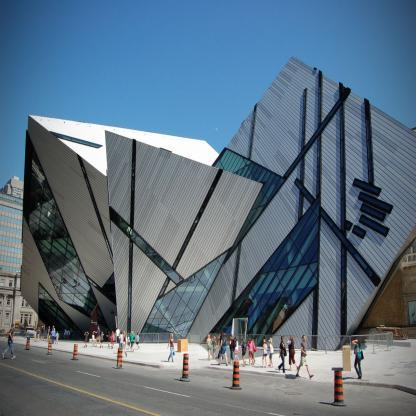Building Outline: (20, 55, 416, 351)
Door: (237, 320, 247, 346)
Facade: (20, 55, 416, 352)
Glass Wall: (202, 196, 319, 347), (23, 133, 109, 329), (136, 247, 232, 342), (39, 284, 88, 339)
Window: (212, 148, 286, 256), (110, 208, 183, 285), (173, 170, 222, 269), (76, 153, 114, 267), (285, 100, 342, 176), (321, 208, 372, 277), (50, 131, 102, 148), (360, 194, 390, 210), (360, 217, 387, 234), (131, 140, 136, 228), (295, 180, 314, 202), (128, 241, 132, 342), (341, 103, 344, 232), (354, 180, 379, 194), (367, 119, 372, 181), (362, 205, 384, 219), (249, 111, 255, 158), (342, 245, 345, 339), (313, 286, 317, 350), (317, 133, 321, 196), (159, 278, 169, 297), (303, 89, 306, 149), (354, 227, 364, 236), (319, 85, 321, 125), (299, 193, 302, 219), (301, 156, 304, 182), (346, 222, 350, 228)
